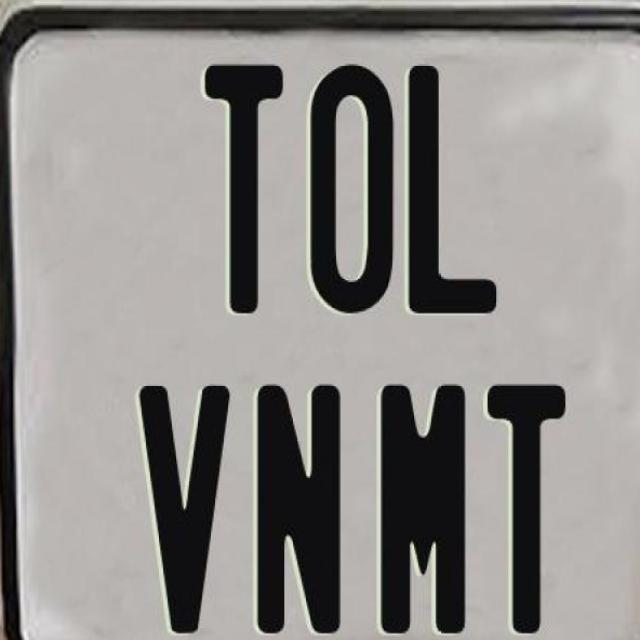license-plate: (6, 11, 640, 638)
